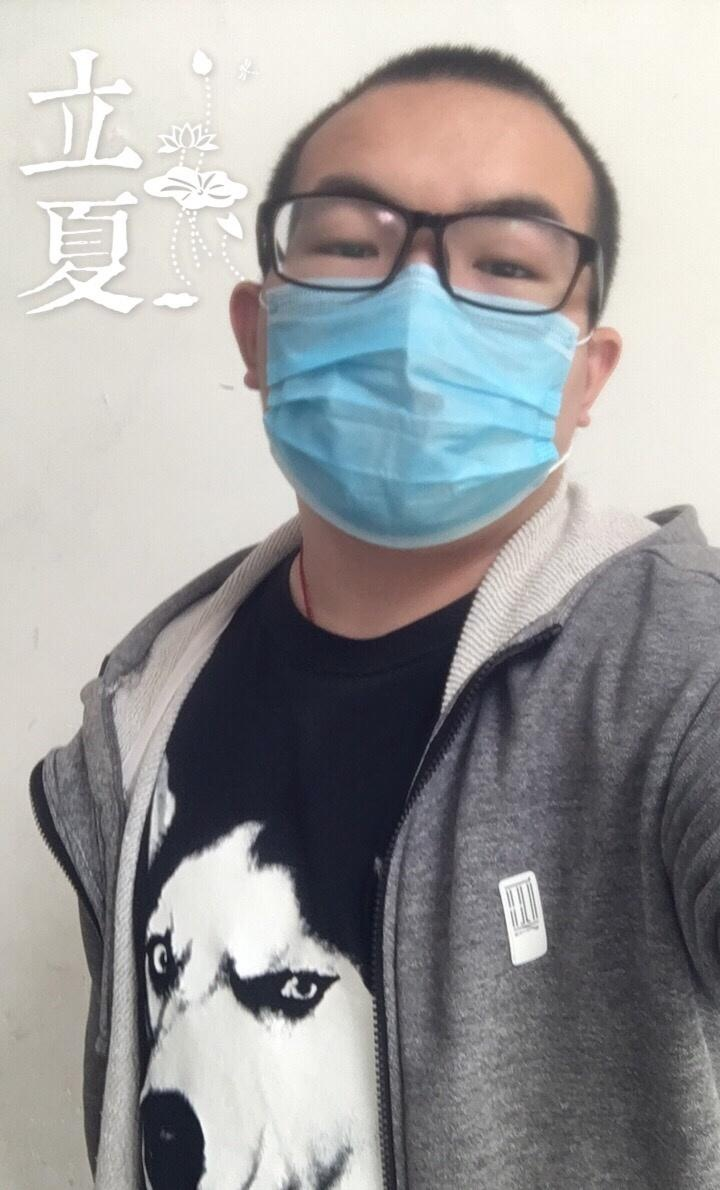Mask: (233, 177, 599, 543)
